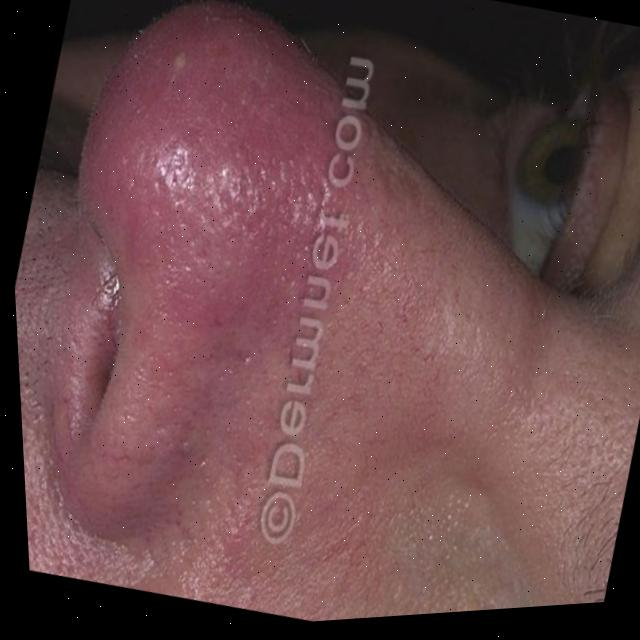Rosacea: (72, 0, 413, 364)
